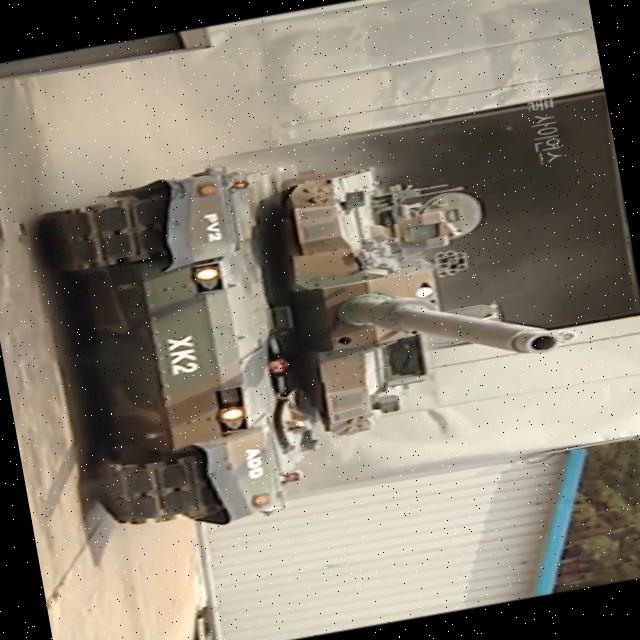korea tank: (29, 106, 598, 550)
